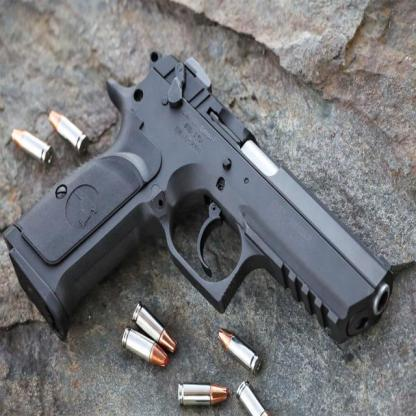handgun: (0, 28, 410, 370)
